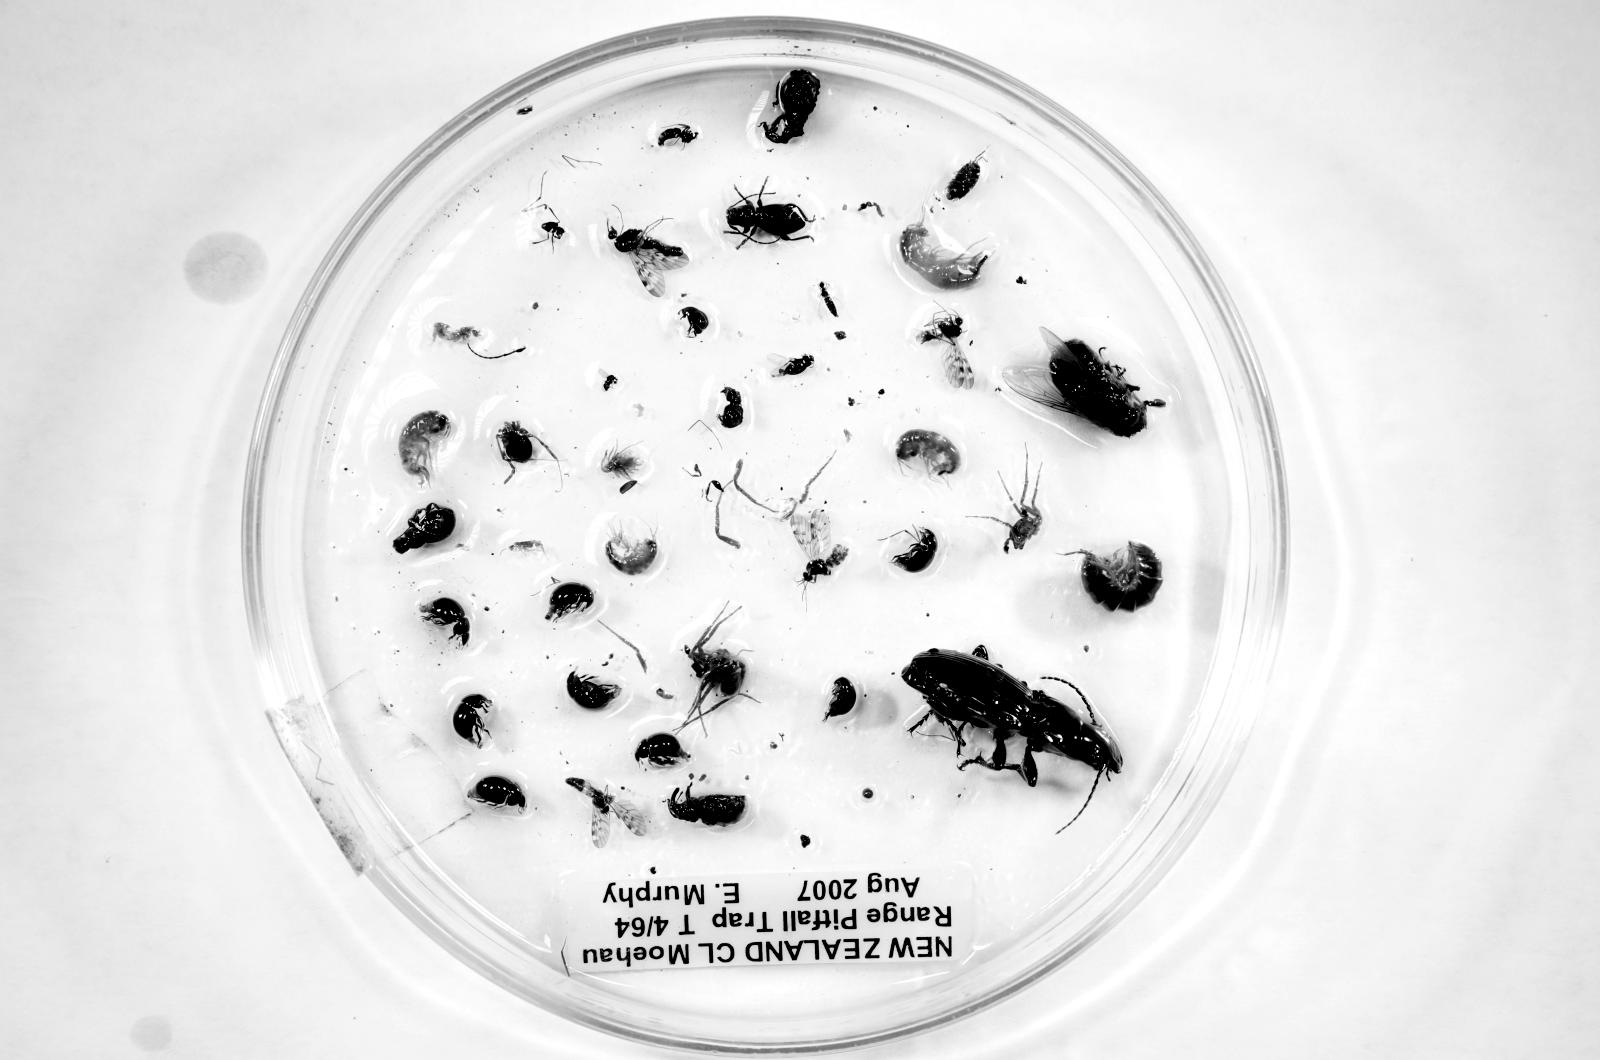amphipoda: (898, 219, 993, 290), (399, 411, 453, 487), (895, 428, 960, 477), (605, 528, 658, 575)
araneae: (680, 609, 747, 728), (969, 451, 1042, 552)
carabidae: (902, 648, 1122, 786)
coleoptera: (725, 179, 816, 247), (759, 69, 820, 143), (665, 784, 747, 827), (393, 503, 455, 554), (420, 597, 469, 647), (890, 528, 938, 573), (453, 693, 492, 748), (566, 672, 621, 710), (545, 582, 595, 621), (635, 732, 691, 767), (468, 776, 526, 808), (824, 677, 857, 719), (718, 387, 744, 428), (679, 306, 710, 337), (773, 355, 814, 375), (818, 280, 837, 317)
collembola: (508, 541, 548, 558)
diptera: (1003, 329, 1166, 437), (565, 776, 650, 848), (608, 226, 688, 297), (915, 311, 974, 388), (790, 509, 848, 582), (597, 369, 620, 392)
isopoda: (1075, 542, 1161, 612), (947, 159, 980, 200)
opiliones: (495, 421, 559, 484)
